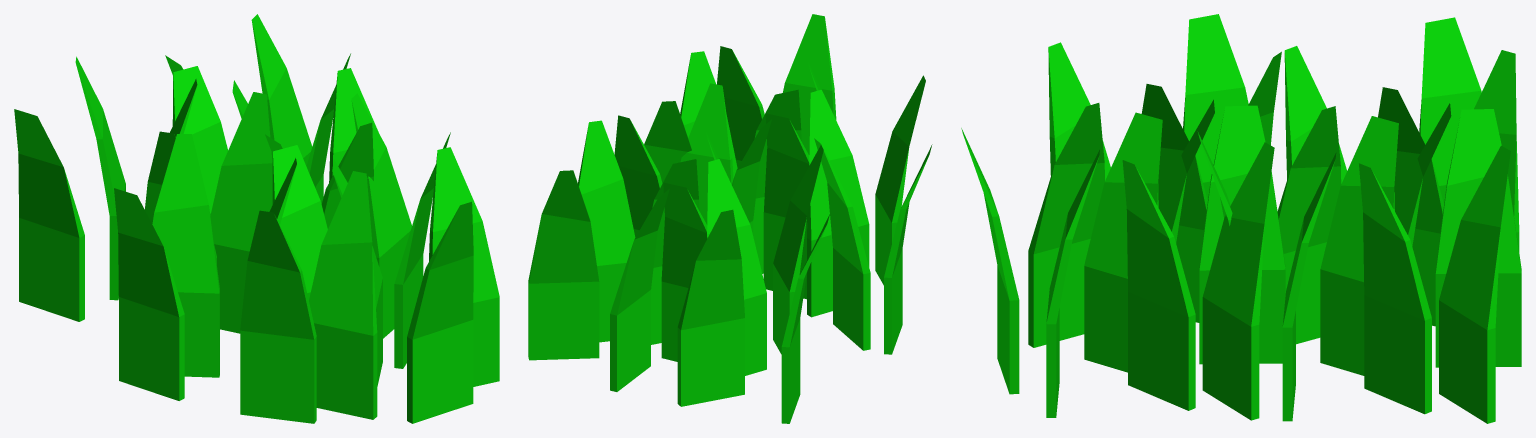
The model's file is Grass#3.fbx.
The picture shows the model from 3 angles, left to right: view 1: azimuth 30°, elevation 25°; view 2: azimuth 150°, elevation 25°; view 3: azimuth 270°, elevation 25°; orthographic projection. The views are drawn at different scales.
Visible parts, largest first — view 1: Grass#3; view 2: Grass#3; view 3: Grass#3.
Boxes of the visible parts, x1,y1,x2,y2 form: Grass#3: [14, 14, 499, 423]; Grass#3: [528, 14, 932, 423]; Grass#3: [961, 14, 1521, 423].
Bounding box in the file's own units: 105 × 69.64 × 142.
